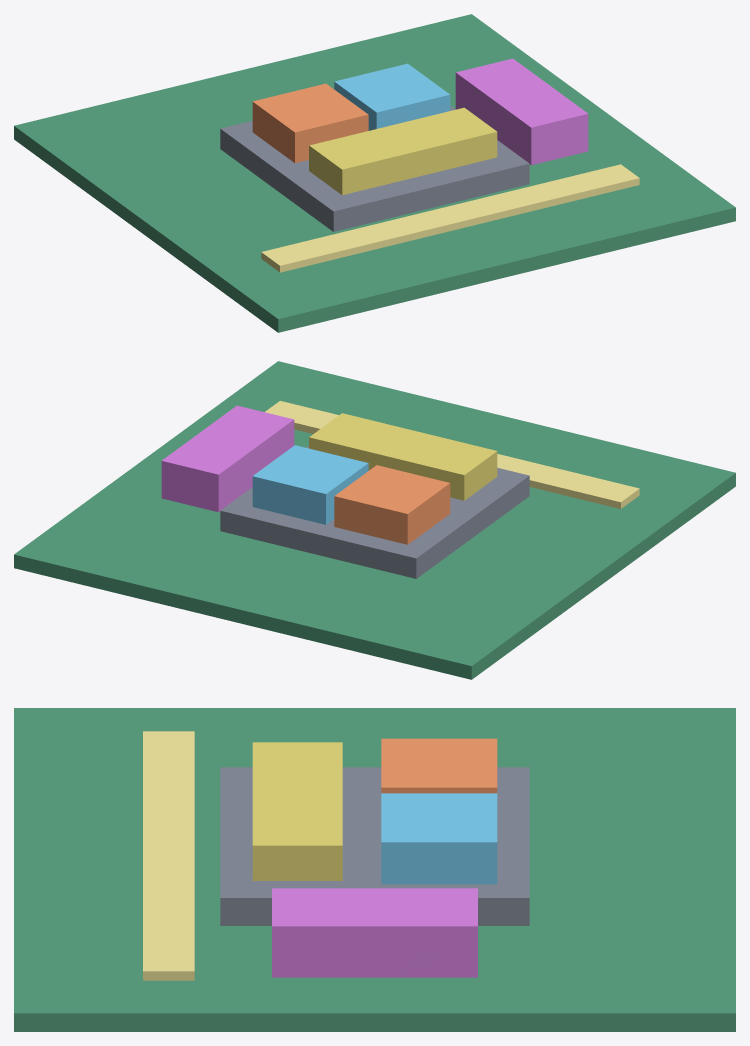
File: computer_architecture.glb
3 renders of one model, top to bottom at view 1: azimuth 30°, elevation 25°; view 2: azimuth 150°, elevation 25°; view 3: azimuth 270°, elevation 25°, orthographic. The views are drawn at different scales.
Visible parts, largest first — view 1: MotherboardSubstrate, CPUSocket, CacheL1L2, SystemBusLines, RegistersBank, ALUCore, ControlUnit; view 2: MotherboardSubstrate, CPUSocket, RegistersBank, CacheL1L2, ALUCore, ControlUnit, SystemBusLines; view 3: MotherboardSubstrate, RegistersBank, CPUSocket, SystemBusLines, CacheL1L2, ControlUnit, ALUCore.
Part boxes in pixels (x1,y1,x2,y2): MotherboardSubstrate: [14, 14, 735, 332]; CPUSocket: [220, 106, 529, 231]; CacheL1L2: [309, 107, 497, 195]; SystemBusLines: [261, 164, 639, 272]; RegistersBank: [455, 58, 588, 165]; ALUCore: [252, 83, 368, 163]; ControlUnit: [334, 63, 450, 130]; MotherboardSubstrate: [14, 361, 735, 679]; CPUSocket: [220, 446, 529, 578]; RegistersBank: [161, 405, 294, 512]; CacheL1L2: [309, 413, 497, 500]; ALUCore: [334, 465, 450, 544]; ControlUnit: [252, 445, 368, 524]; SystemBusLines: [265, 401, 639, 508]; MotherboardSubstrate: [14, 708, 735, 1031]; RegistersBank: [272, 888, 477, 977]; CPUSocket: [220, 767, 529, 925]; SystemBusLines: [143, 731, 194, 980]; CacheL1L2: [252, 742, 342, 880]; ControlUnit: [381, 793, 497, 884]; ALUCore: [381, 738, 497, 793].
Size of the model in its own units: 2.8 by 0.38 by 2.8.
